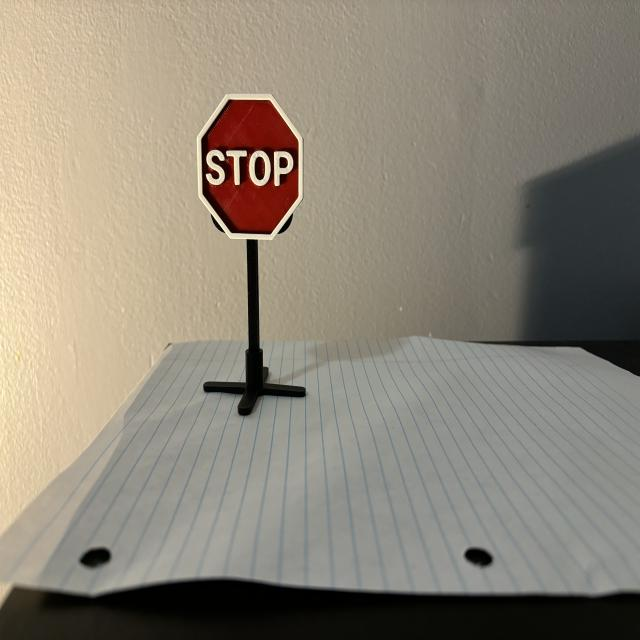sign_stop: (198, 95, 304, 240)
